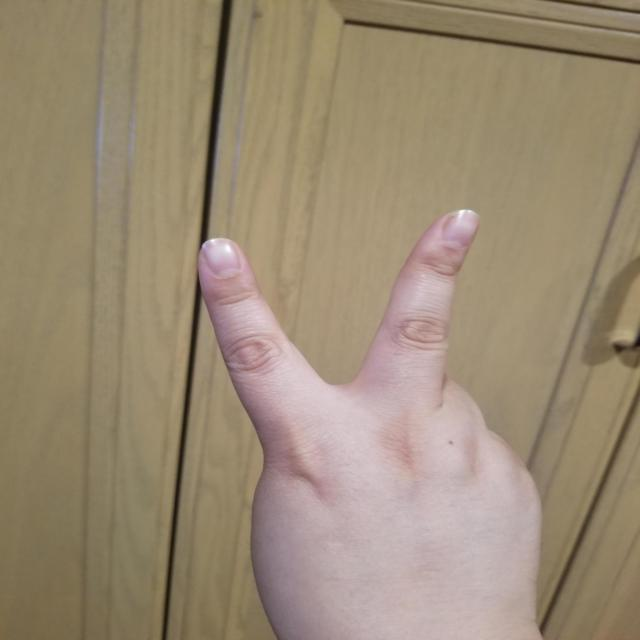V: (191, 204, 566, 640)
